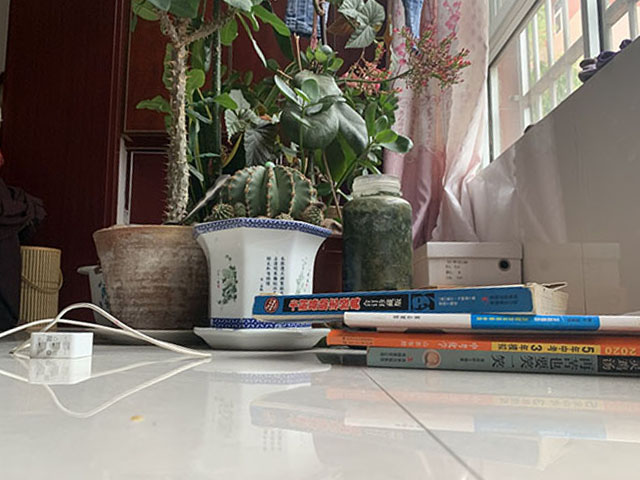book: (249, 280, 639, 381)
curtain: (388, 1, 490, 240)
wire: (1, 301, 213, 361)
